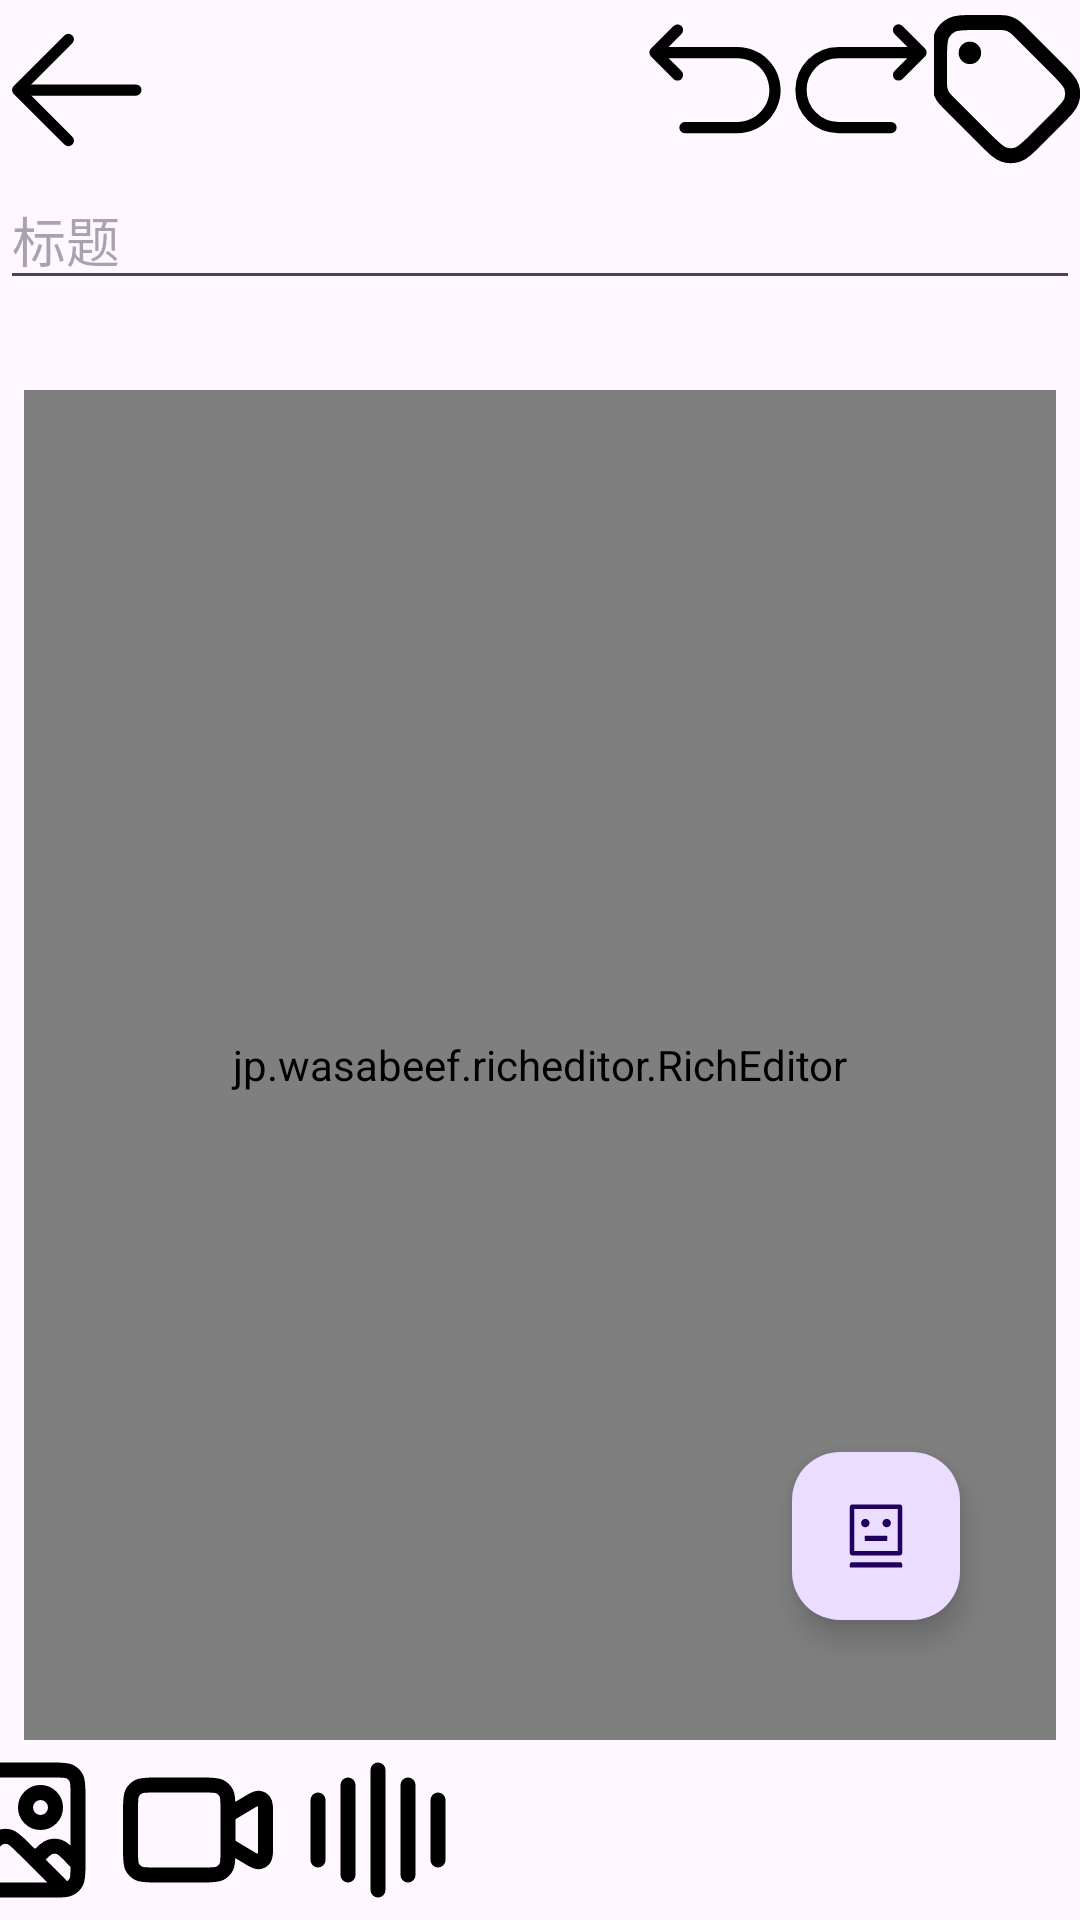

Where to tap for icons on this 1080x1920 app screen, as point (x, y):
audio: point (378, 1830)
back: point (77, 90)
robot: point (876, 1536)
tag: point (1007, 89)
undo left round: point (715, 79)
undo right round: point (861, 79)
video: point (198, 1830)
